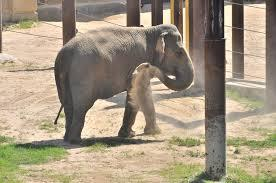elephant: (54, 24, 193, 141)
